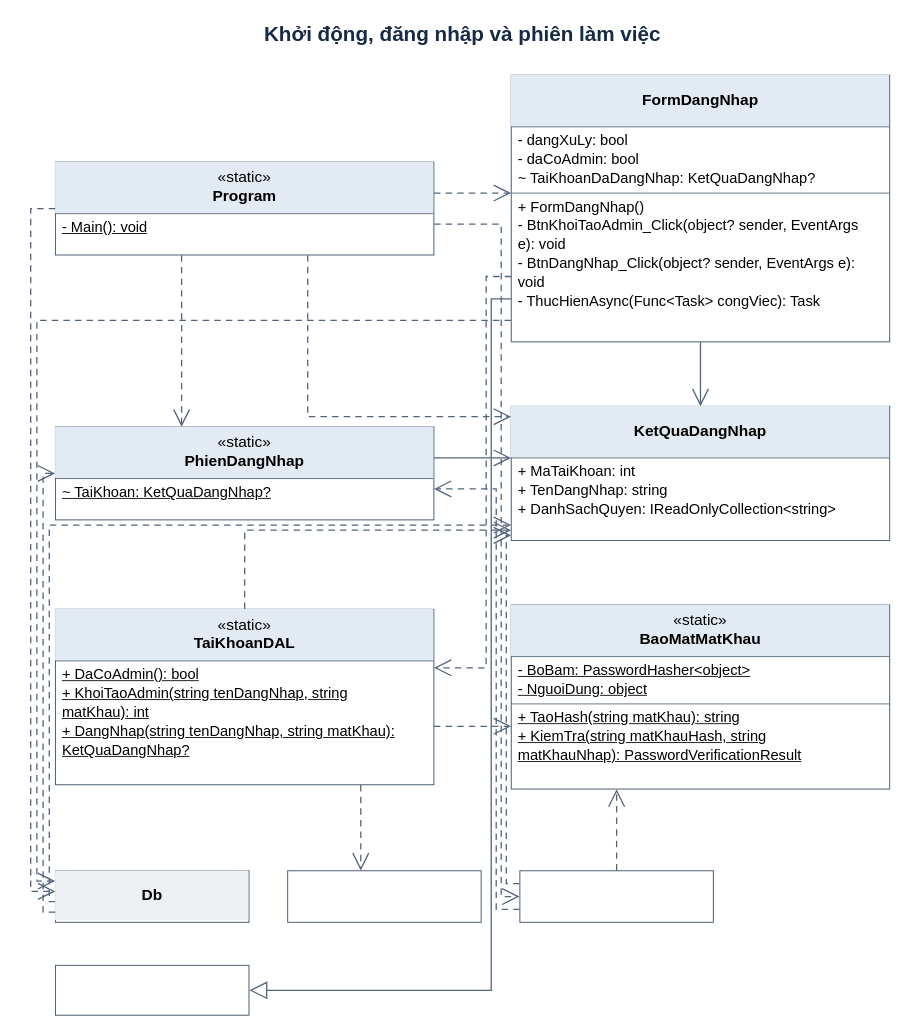
The diagram is 909 pixels wide and 1030 high, and some of its shapes have lost their labels. The box of each missing label's shape, as (x1, y1, x2, y2) in pixels:
CauHinh: (287, 870, 481, 922)
Form1: (519, 870, 713, 922)
«framework» Form: (55, 964, 249, 1015)
